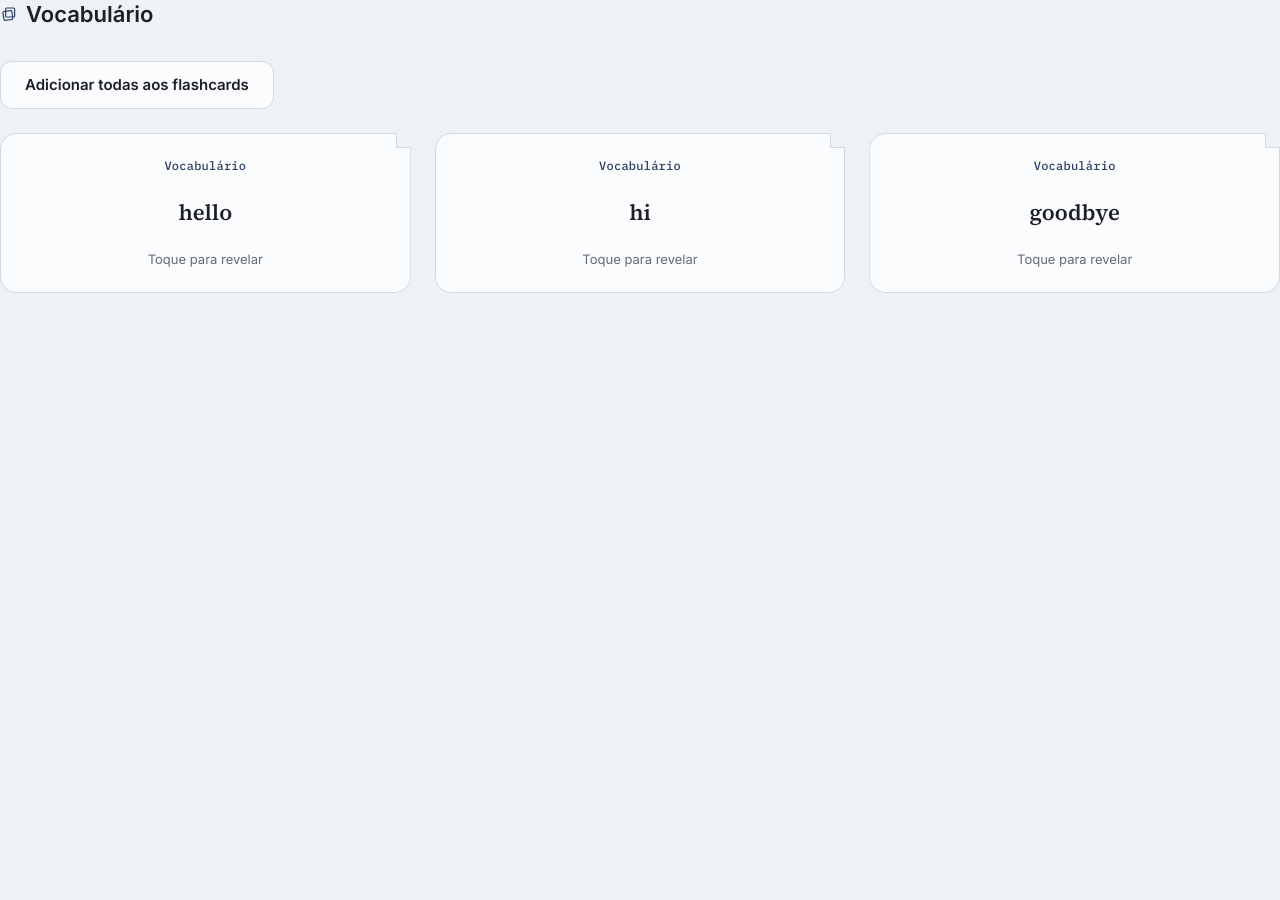
it: VocabularySection - bulk add to flashcards › preserves the existing individual add-word flow untouched - a word card still opens WordPopup
Click the heading "hello" at coordinates (205, 212), box [178, 198, 232, 226]
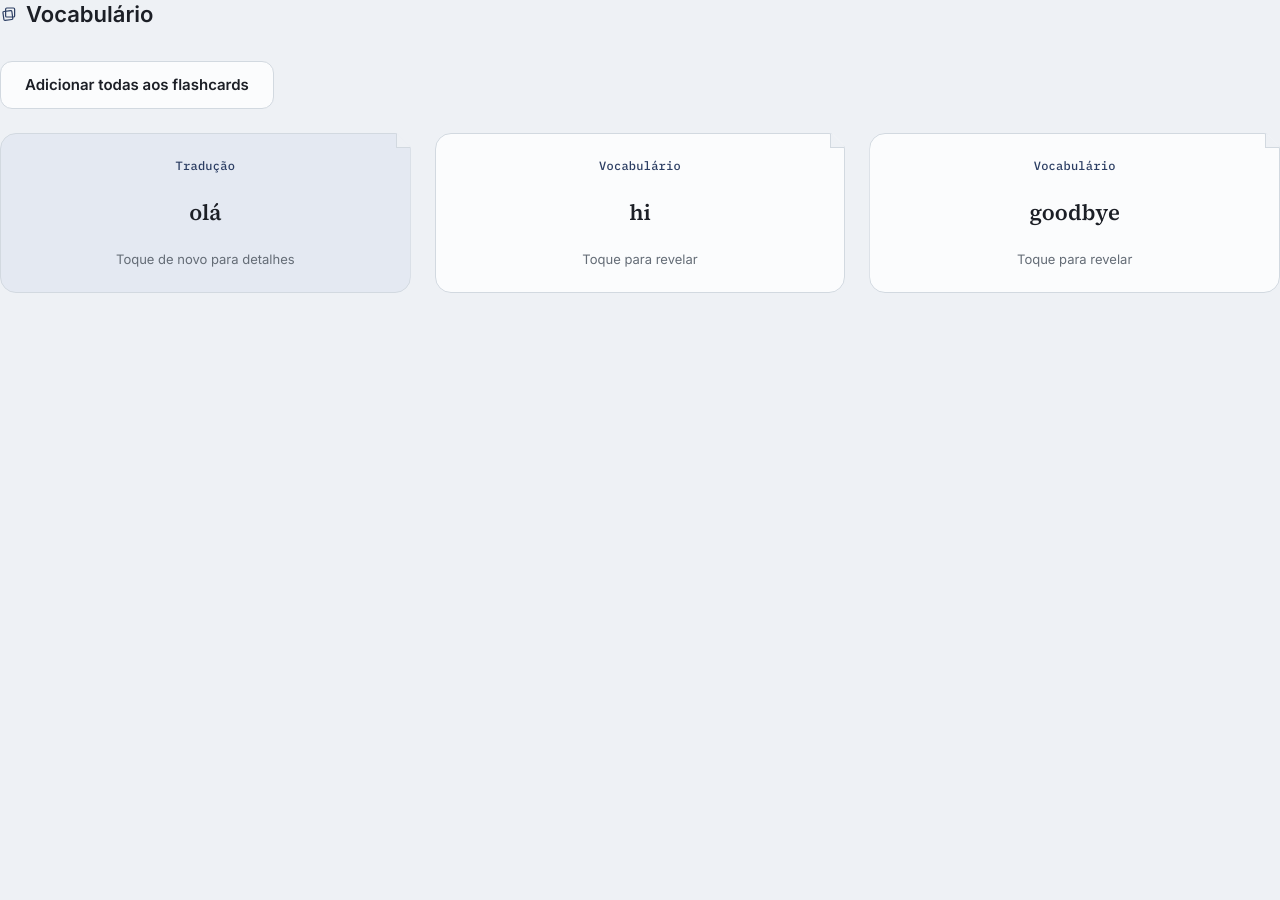
Click the heading "olá" at coordinates (205, 212), box [189, 198, 222, 226]
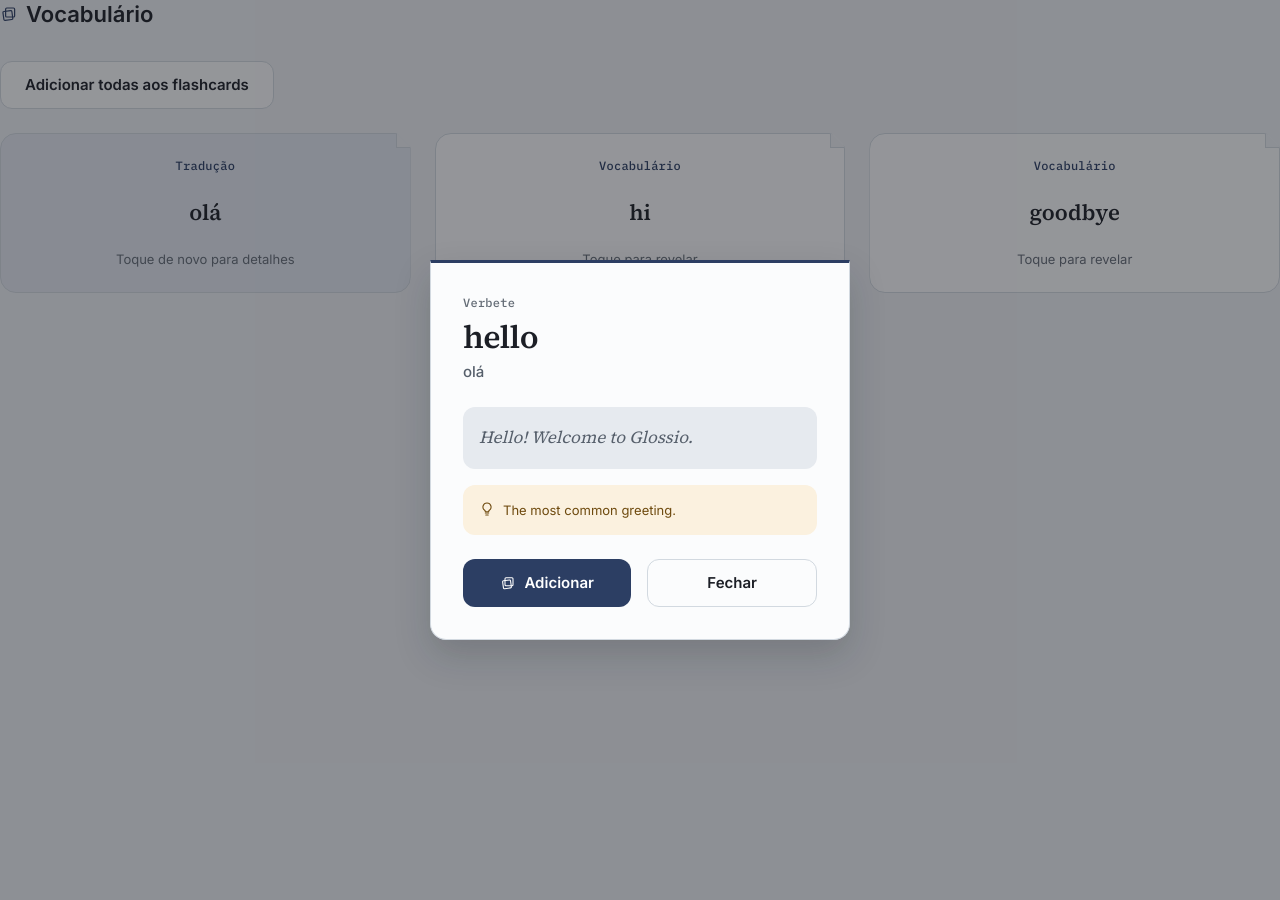
expect the dialog is shown: met, box [430, 260, 850, 640]
